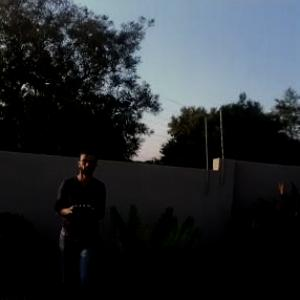follow: (52, 132, 114, 299)
